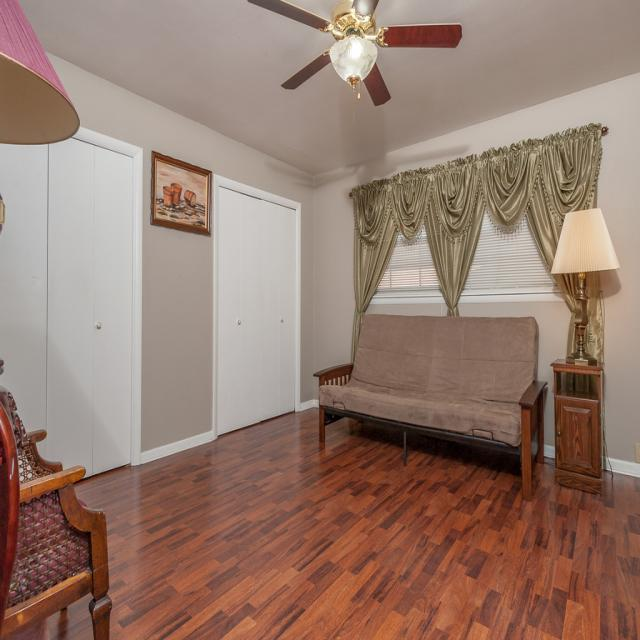Bulb: (247, 0, 460, 124)
